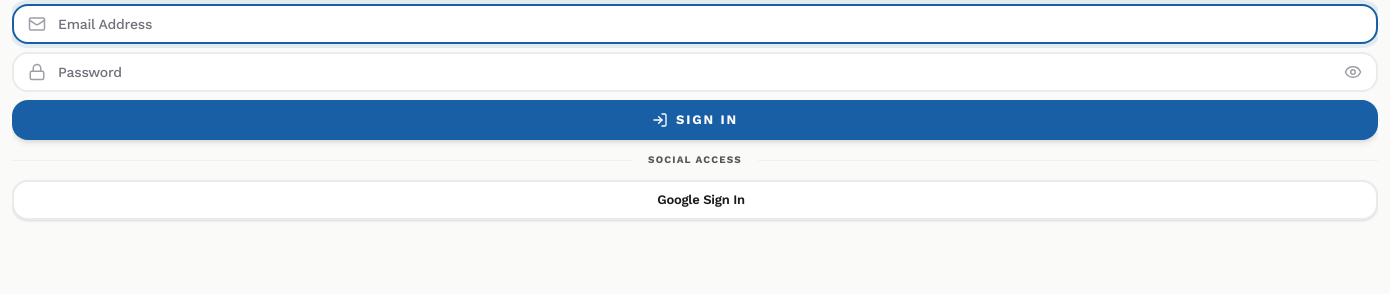
Test: SignIn Component › shows error when signIn fails
This screenshot has width=1390, height=294.
Type "test@example.com" into the field labelled "Email Address" at (695, 24), box [12,4,1378,44]
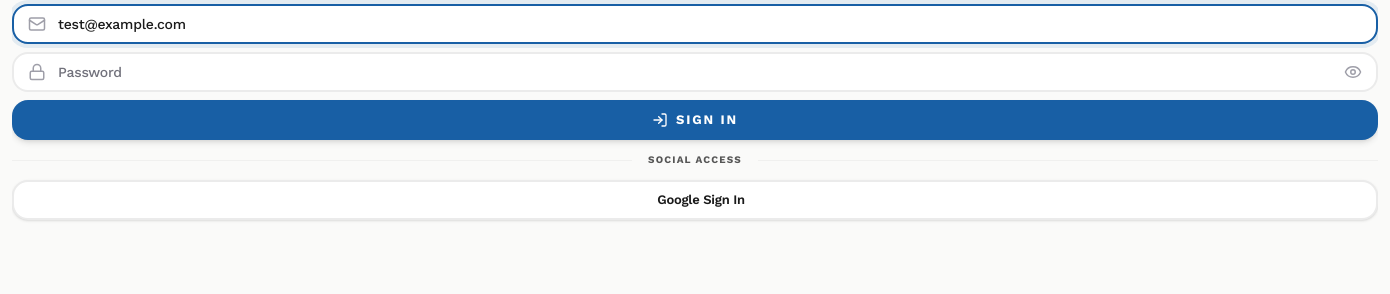
Type "wrong" into the password field labelled "Password" at (695, 72), box [12,52,1378,92]
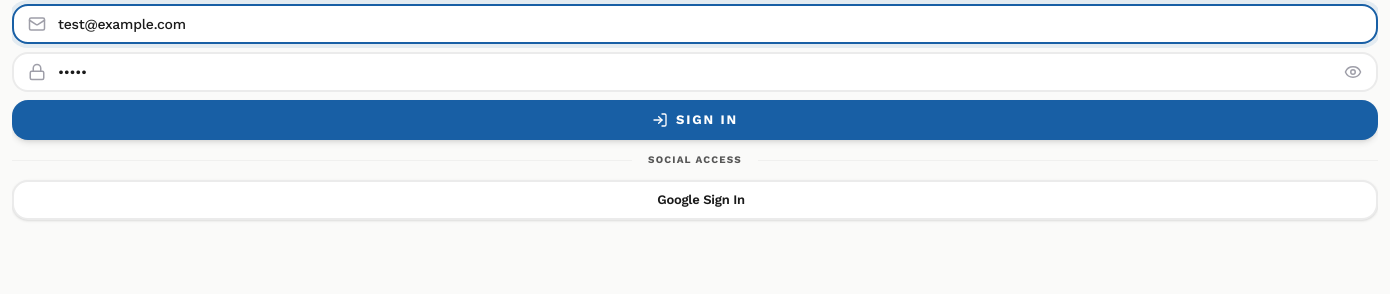
Click the button "Sign In" at (695, 120), box [12,100,1378,140]
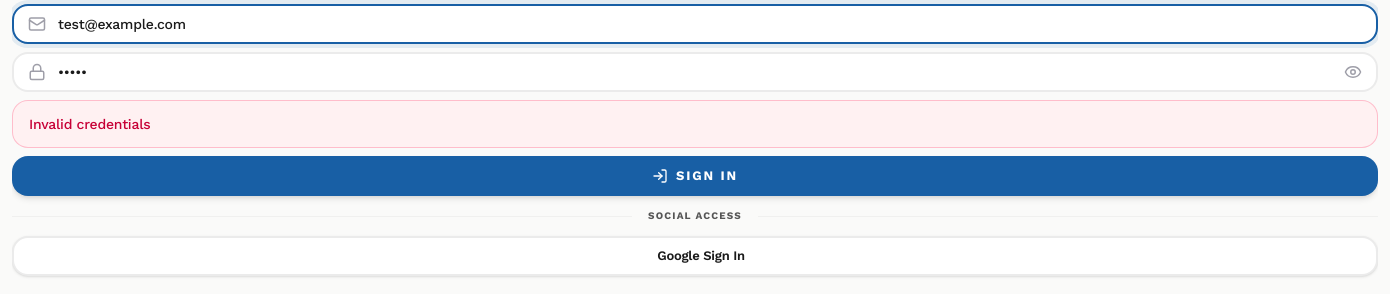
Now the text "Invalid credentials" is shown, box [12,100,1378,148]
